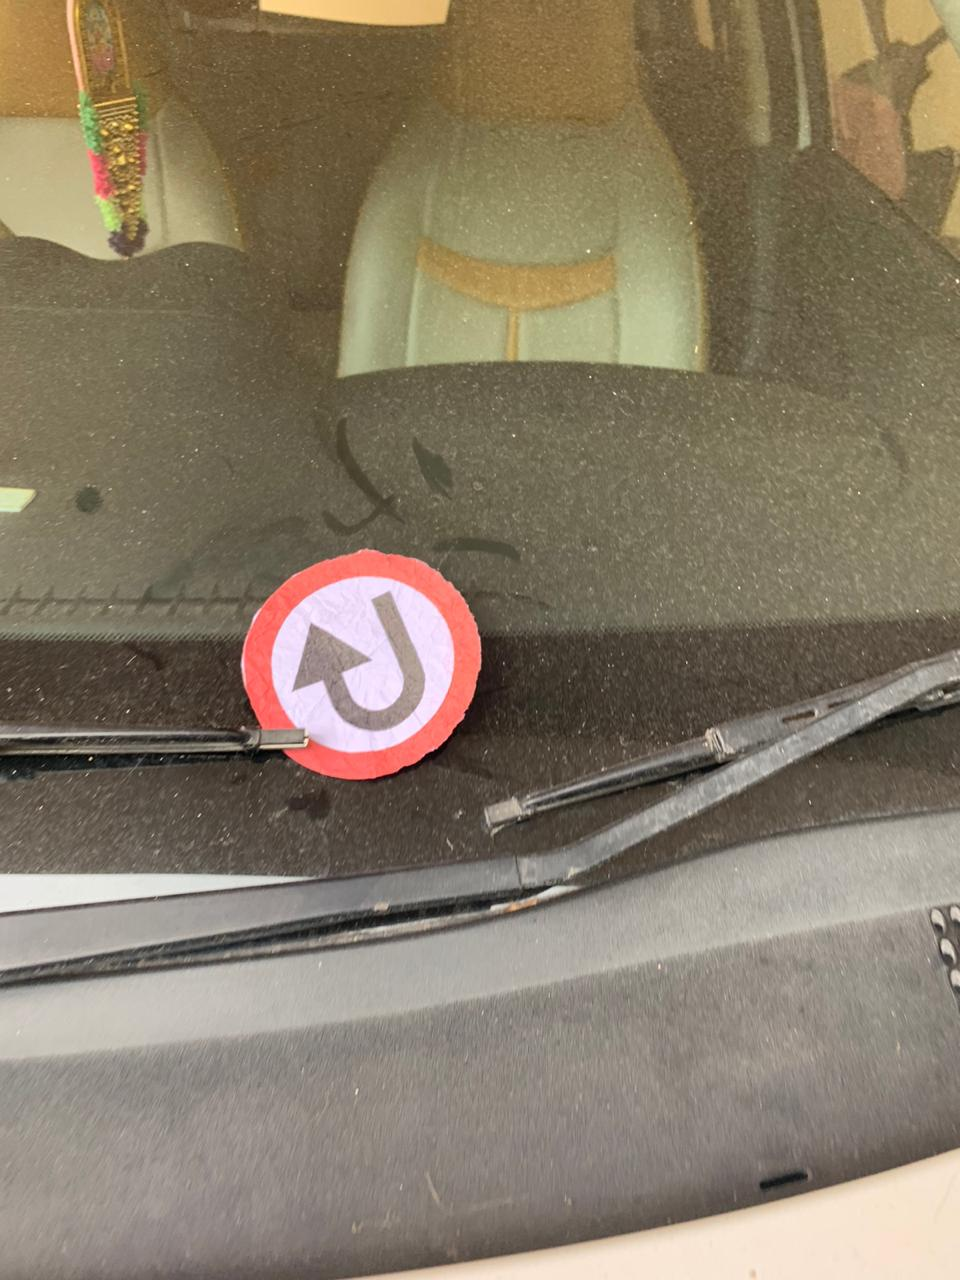U-TURN: (252, 519, 547, 792)
